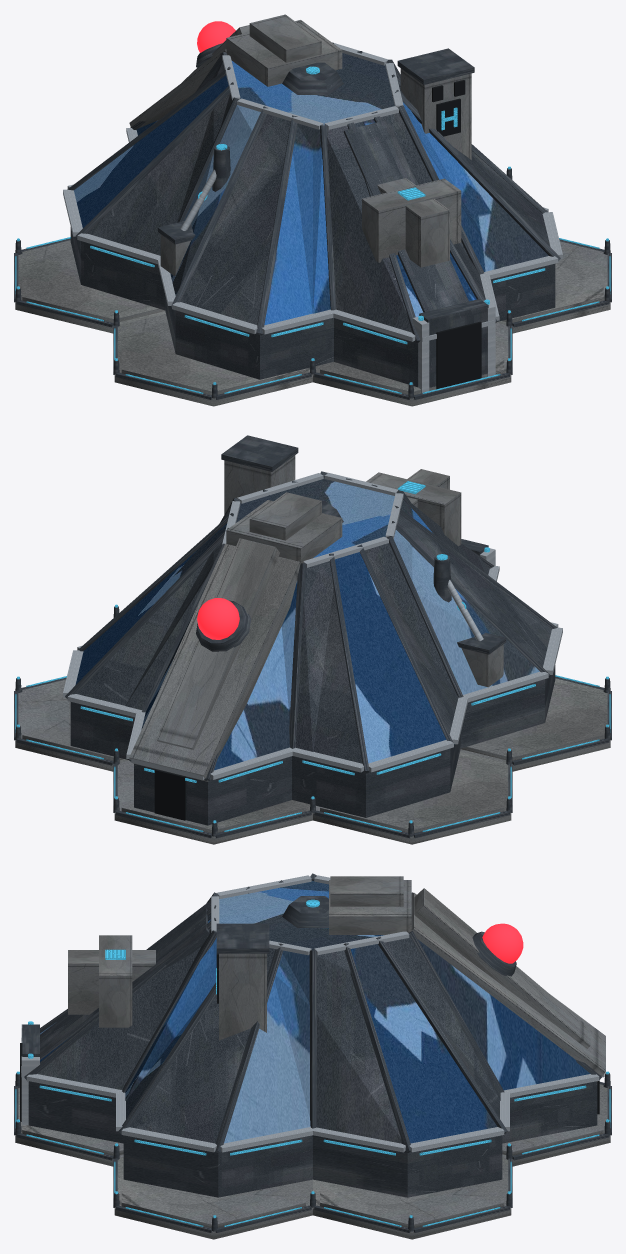
Rendered from grand-hall.glb.
The picture shows the model from 3 angles, top to bottom: view 1: azimuth 30°, elevation 25°; view 2: azimuth 150°, elevation 25°; view 3: azimuth 270°, elevation 25°; orthographic projection.
Visible parts, largest first — view 1: roof_dark_c, base_plate_c, roof_c, cap_trim_0, prow_void, cap_glow_0, beacon_dome; view 2: roof_dark_c, base_plate_c, roof_c, cap_trim_0, cap_glow_0, prow_void, beacon_dome; view 3: roof_dark_c, base_plate_c, roof_c, cap_trim_0, cap_glow_0, beacon_dome.
Part boxes in pixels (x1,y1,x2,y2): roof_dark_c: [14, 42, 611, 399]; base_plate_c: [15, 14, 610, 406]; roof_c: [74, 53, 548, 325]; cap_trim_0: [63, 42, 562, 393]; prow_void: [432, 80, 481, 389]; cap_glow_0: [15, 66, 610, 393]; beacon_dome: [197, 21, 235, 52]; roof_dark_c: [14, 435, 611, 838]; base_plate_c: [15, 455, 610, 844]; roof_c: [75, 477, 539, 770]; cap_trim_0: [63, 472, 562, 780]; cap_glow_0: [15, 481, 610, 831]; prow_void: [154, 769, 185, 820]; beacon_dome: [197, 598, 239, 639]; roof_dark_c: [14, 873, 611, 1232]; base_plate_c: [15, 876, 610, 1239]; roof_c: [40, 880, 590, 1143]; cap_trim_0: [21, 875, 604, 1152]; cap_glow_0: [15, 899, 610, 1226]; beacon_dome: [482, 923, 523, 963].
Bounding box in the file's own units: 36.04 × 16.2 × 37.59.
Materials: 7 (5 with a texture image).
